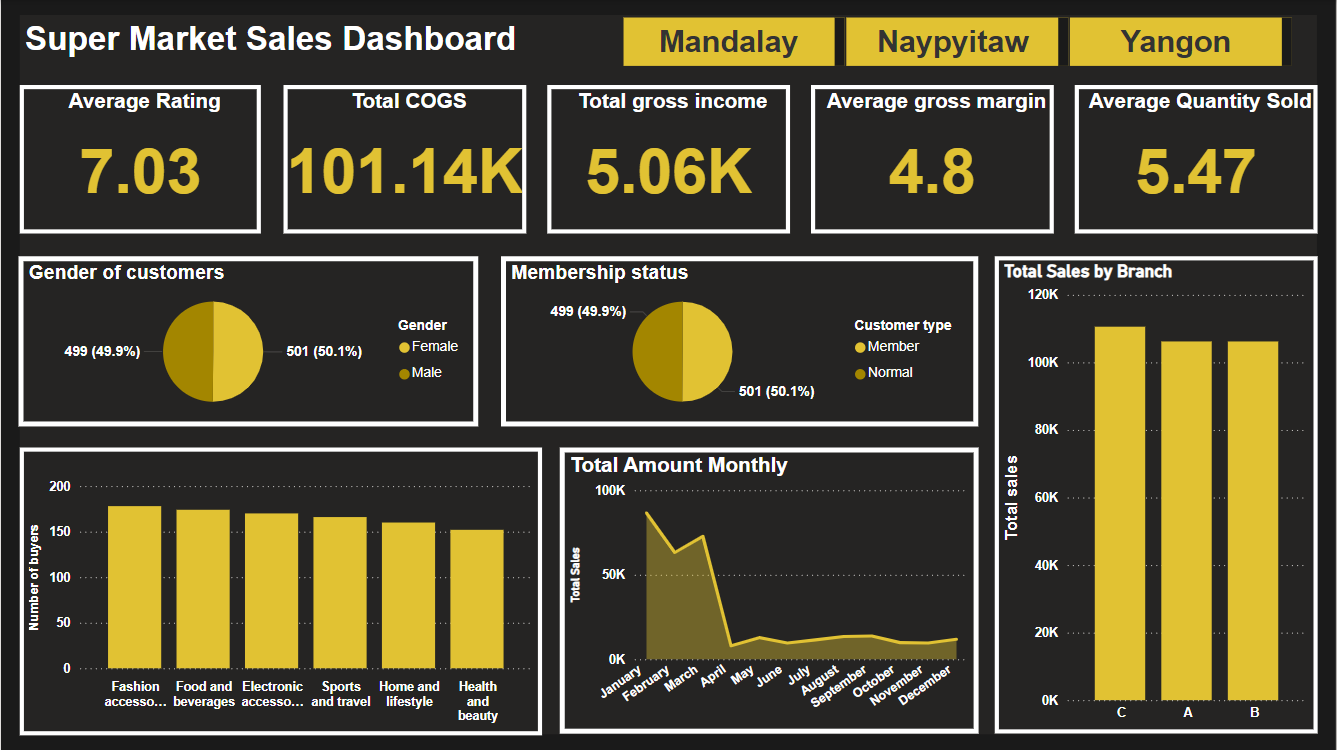

What the dashboard file says about the page in this screenshot:
{"tool":"powerbi","page":{"name":"Page 1","canvas":[1280,720],"ordinal":0},"visuals":[{"type":"group","id":"g1","title":"Group 1","box":[0,0,1279.9,720.2],"z":500,"group":"g2"},{"type":"shape","box":[0,0,1279.9,720.2],"z":1000,"group":"g1"},{"type":"shape","box":[18.1,14.7,1243.7,689.7],"z":1500,"group":"g1"},{"type":"kpi","title":"Average Rating","fields":{"Indicator":["Avg(supermarket_sales - Sheet1.Rating)"],"TrendLine":["supermarket_sales - Sheet1.City"]},"box":[18,81.5,231.3,142.6],"z":2000,"group":"g2"},{"type":"kpi","title":"Total COGS","fields":{"TrendLine":["supermarket_sales - Sheet1.City"],"Indicator":["Sum(supermarket_sales - Sheet1.cogs)"]},"box":[270.9,81.5,232.5,142.6],"z":3000,"group":"g2"},{"type":"clusteredColumnChart","fields":{"Category":["supermarket_sales - Sheet1.Product line"],"Y":["CountNonNull(supermarket_sales - Sheet1.Invoice ID)"]},"box":[18.1,428.5,500.9,275.9],"z":4000,"group":"g2"},{"type":"kpi","title":"Total gross income","fields":{"TrendLine":["supermarket_sales - Sheet1.City"],"Indicator":["Sum(supermarket_sales - Sheet1.gross income)"]},"box":[523.7,81.5,232.5,142.6],"z":5000,"group":"g2"},{"type":"textbox","box":[18.1,14.7,500.9,50.9],"z":6000,"group":"g2"},{"type":"kpi","title":"Average gross margin","fields":{"TrendLine":["supermarket_sales - Sheet1.City"],"Indicator":["Avg(supermarket_sales - Sheet1.gross margin percentage)"]},"box":[776.6,81.5,232.5,142.6],"z":7000,"group":"g2"},{"type":"kpi","title":"Average Quantity Sold","fields":{"TrendLine":["supermarket_sales - Sheet1.City"],"Indicator":["Avg(supermarket_sales - Sheet1.Quantity)"]},"box":[1029.5,81.5,232.5,142.6],"z":8000,"group":"g2"},{"type":"slicer","fields":{"Values":["supermarket_sales - Sheet1.City"]},"box":[571,14.7,690.8,50.9],"z":9000,"group":"g2"},{"type":"pieChart","title":"Gender of customers","fields":{"Category":["supermarket_sales - Sheet1.Gender"],"Y":["CountNonNull(supermarket_sales - Sheet1.Invoice ID)"]},"box":[16.8,245.7,441,163],"z":10000,"group":"g2"},{"type":"lineChart","title":"Total Amount Monthly","fields":{"Category":["supermarket_sales - Sheet1.Date.Variation.Date Hierarchy.Month"],"Y":["Sum(supermarket_sales - Sheet1.Total)"]},"box":[535.7,429.1,401.5,274.5],"z":11000,"group":"g2"},{"type":"clusteredColumnChart","title":"Total Sales by Branch","fields":{"Category":["supermarket_sales - Sheet1.Branch"],"Y":["Sum(supermarket_sales - Sheet1.Total)"]},"box":[952.8,245.7,309.2,457.8],"z":12000,"group":"g2"},{"type":"pieChart","title":"Membership status","fields":{"Y":["CountNonNull(supermarket_sales - Sheet1.Invoice ID)"],"Category":["supermarket_sales - Sheet1.Customer type"]},"box":[479.4,245.7,457.8,163],"z":13000,"group":"g2"},{"type":"group","id":"g2","title":"Group 2","box":[0,0,1279.9,720.2],"z":13001}]}

Visuals, with their boxes in screenshot pixels (x1, y1, x2, y2), scaled from the page's 1280x720 canvas onto the 1337x750 screenshot:
"Group 1" group: {"x1": 0, "y1": 0, "x2": 1336, "y2": 749}
shape: {"x1": 0, "y1": 0, "x2": 1336, "y2": 749}
shape: {"x1": 19, "y1": 15, "x2": 1318, "y2": 734}
"Average Rating" kpi: {"x1": 19, "y1": 85, "x2": 260, "y2": 233}
"Total COGS" kpi: {"x1": 283, "y1": 85, "x2": 526, "y2": 233}
clusteredColumnChart - supermarket_sales - Sheet1.Product line x CountNonNull(supermarket_sales - Sheet1.Invoice ID): {"x1": 19, "y1": 446, "x2": 542, "y2": 734}
"Total gross income" kpi: {"x1": 547, "y1": 85, "x2": 790, "y2": 233}
textbox: {"x1": 19, "y1": 15, "x2": 542, "y2": 68}
"Average gross margin" kpi: {"x1": 811, "y1": 85, "x2": 1054, "y2": 233}
"Average Quantity Sold" kpi: {"x1": 1075, "y1": 85, "x2": 1318, "y2": 233}
slicer - supermarket_sales - Sheet1.City: {"x1": 596, "y1": 15, "x2": 1318, "y2": 68}
"Gender of customers" pieChart: {"x1": 18, "y1": 256, "x2": 478, "y2": 426}
"Total Amount Monthly" lineChart: {"x1": 560, "y1": 447, "x2": 979, "y2": 733}
"Total Sales by Branch" clusteredColumnChart: {"x1": 995, "y1": 256, "x2": 1318, "y2": 733}
"Membership status" pieChart: {"x1": 501, "y1": 256, "x2": 979, "y2": 426}
"Group 2" group: {"x1": 0, "y1": 0, "x2": 1336, "y2": 749}
